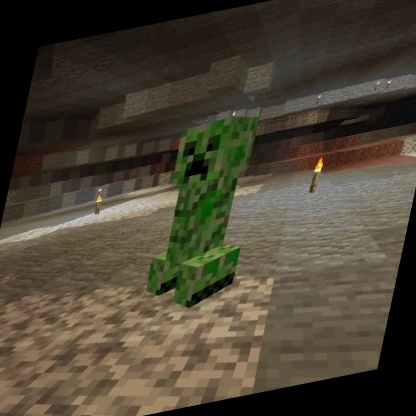creeper: (134, 106, 274, 322)
